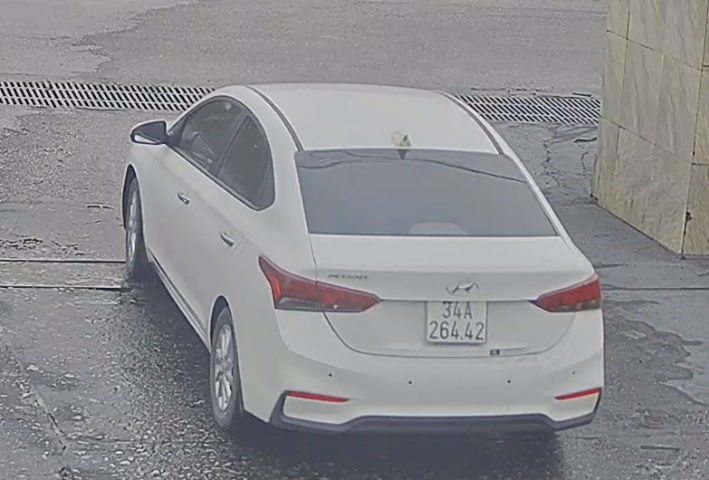vehicle plate: (425, 297, 489, 349)
